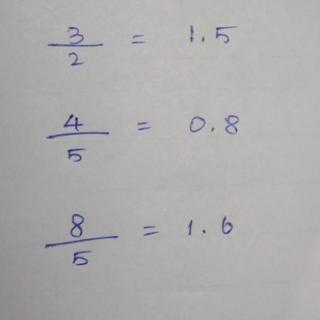.: (182, 214, 196, 240), (197, 33, 207, 47), (198, 225, 208, 237), (208, 124, 216, 135)
0: (184, 111, 207, 139)
1: (184, 23, 197, 47)
2: (64, 50, 88, 67)
3: (65, 21, 85, 44)
4: (59, 109, 86, 131)
5: (214, 20, 240, 47), (69, 245, 96, 270), (60, 146, 87, 168)
6: (216, 210, 237, 236)
8: (64, 211, 89, 238), (222, 111, 245, 140)
